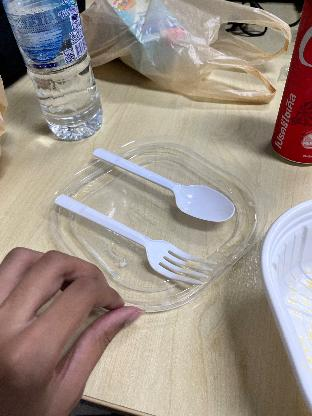Others: (43, 192, 218, 286), (88, 148, 240, 222)
Plastic Bottle: (3, 0, 105, 140)
